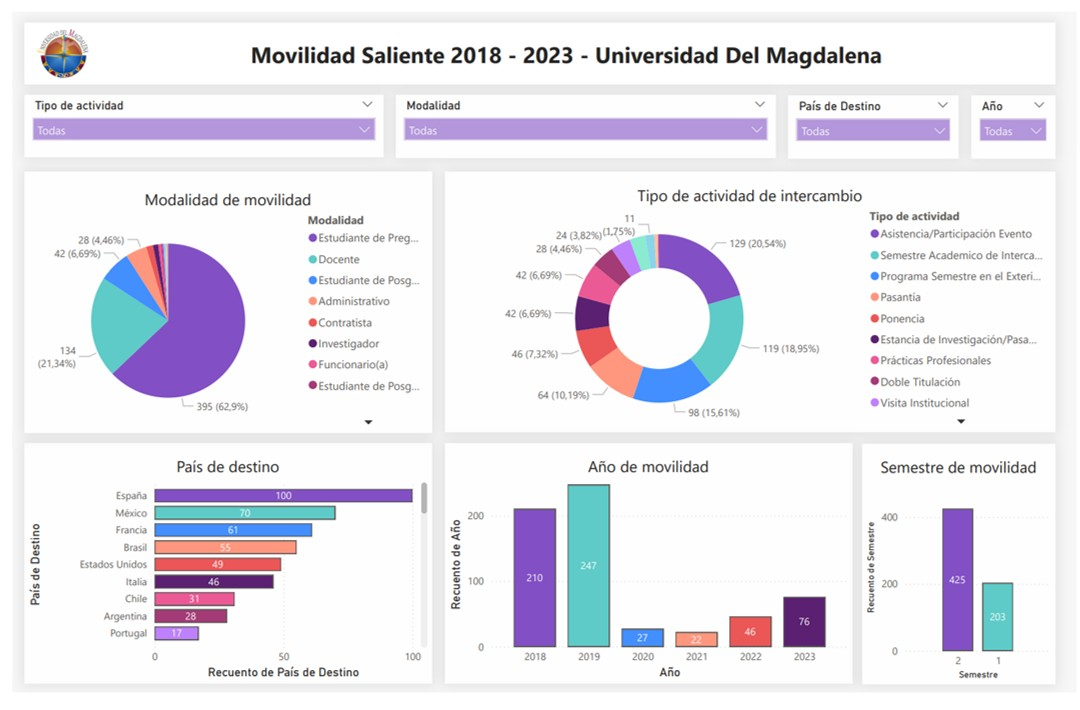

This screenshot's page, from the dashboard's own definition file:
{"tool":"powerbi","page":{"name":"Dashboard","canvas":[1280,818],"ordinal":0},"visuals":[{"type":"barChart","title":"País de destino","fields":{"Category":["Movilidad_Internacional_Saliente_Universidad_del_Magdalena_20240205.País de Destino"],"Y":["CountNonNull(Movilidad_Internacional_Saliente_Universidad_del_Magdalena_20240205.País de Destino)"],"Series":["Movilidad_Internacional_Saliente_Universidad_del_Magdalena_20240205.País de Destino"]},"box":[14.1,517.9,490,288.8],"z":1000},{"type":"donutChart","title":"Tipo de actividad de intercambio","fields":{"Y":["CountNonNull(Movilidad_Internacional_Saliente_Universidad_del_Magdalena_20240205.Modalidad)"],"Category":["Movilidad_Internacional_Saliente_Universidad_del_Magdalena_20240205.Tipo de actividad"]},"box":[520.4,191.7,733.8,313.8],"z":2000},{"type":"columnChart","title":"Año de movilidad","fields":{"Category":["Movilidad_Internacional_Saliente_Universidad_del_Magdalena_20240205.Año"],"Y":["CountNonNull(Movilidad_Internacional_Saliente_Universidad_del_Magdalena_20240205.Año)"],"Series":["Movilidad_Internacional_Saliente_Universidad_del_Magdalena_20240205.Año"]},"box":[520.4,518.3,490,288.3],"z":3000},{"type":"columnChart","title":"Semestre de movilidad","fields":{"Category":["Movilidad_Internacional_Saliente_Universidad_del_Magdalena_20240205.Semestre"],"Y":["CountNonNull(Movilidad_Internacional_Saliente_Universidad_del_Magdalena_20240205.Semestre)"],"Series":["Movilidad_Internacional_Saliente_Universidad_del_Magdalena_20240205.Semestre"]},"box":[1021.6,519.2,232.5,288.8],"z":4000},{"type":"shape","box":[14.3,12.9,1240,74.3],"z":5000},{"type":"image","box":[23.8,16.2,72.5,67.5],"z":6000},{"type":"textbox","box":[95.7,27.1,1140,52.9],"z":7000},{"type":"slicer","fields":{"Values":["Movilidad_Internacional_Saliente_Universidad_del_Magdalena_20240205.Año"]},"box":[1152.5,100,101.2,76.2],"z":8000},{"type":"slicer","fields":{"Values":["Movilidad_Internacional_Saliente_Universidad_del_Magdalena_20240205.País de Destino"]},"box":[932.5,100,205,76.2],"z":9000},{"type":"slicer","fields":{"Values":["Movilidad_Internacional_Saliente_Universidad_del_Magdalena_20240205.Modalidad"]},"box":[461.2,98.8,456.2,76.2],"z":10000},{"type":"slicer","fields":{"Values":["Movilidad_Internacional_Saliente_Universidad_del_Magdalena_20240205.Tipo de actividad"]},"box":[13.8,98.8,432.5,75],"z":11000},{"type":"pieChart","title":"Modalidad de movilidad","fields":{"Y":["CountNonNull(Movilidad_Internacional_Saliente_Universidad_del_Magdalena_20240205.Modalidad)"],"Category":["Movilidad_Internacional_Saliente_Universidad_del_Magdalena_20240205.Modalidad"]},"box":[14.4,191.7,490,314],"z":12000}]}

Visuals, with their boxes in screenshot pixels (x1, y1, x2, y2), scaled from the page's 1280x818 canvas onto the 1080x710 screenshot:
"País de destino" barChart: {"left": 12, "top": 450, "right": 425, "bottom": 700}
"Tipo de actividad de intercambio" donutChart: {"left": 439, "top": 166, "right": 1058, "bottom": 439}
"Año de movilidad" columnChart: {"left": 439, "top": 450, "right": 853, "bottom": 700}
"Semestre de movilidad" columnChart: {"left": 862, "top": 451, "right": 1058, "bottom": 701}
shape: {"left": 12, "top": 11, "right": 1058, "bottom": 76}
image: {"left": 20, "top": 14, "right": 81, "bottom": 73}
textbox: {"left": 81, "top": 24, "right": 1043, "bottom": 69}
slicer - Movilidad_Internacional_Saliente_Universidad_del_Magdalena_20240205.Año: {"left": 972, "top": 87, "right": 1058, "bottom": 153}
slicer - Movilidad_Internacional_Saliente_Universidad_del_Magdalena_20240205.País de Destino: {"left": 787, "top": 87, "right": 960, "bottom": 153}
slicer - Movilidad_Internacional_Saliente_Universidad_del_Magdalena_20240205.Modalidad: {"left": 389, "top": 86, "right": 774, "bottom": 152}
slicer - Movilidad_Internacional_Saliente_Universidad_del_Magdalena_20240205.Tipo de actividad: {"left": 12, "top": 86, "right": 377, "bottom": 151}
"Modalidad de movilidad" pieChart: {"left": 12, "top": 166, "right": 426, "bottom": 439}
